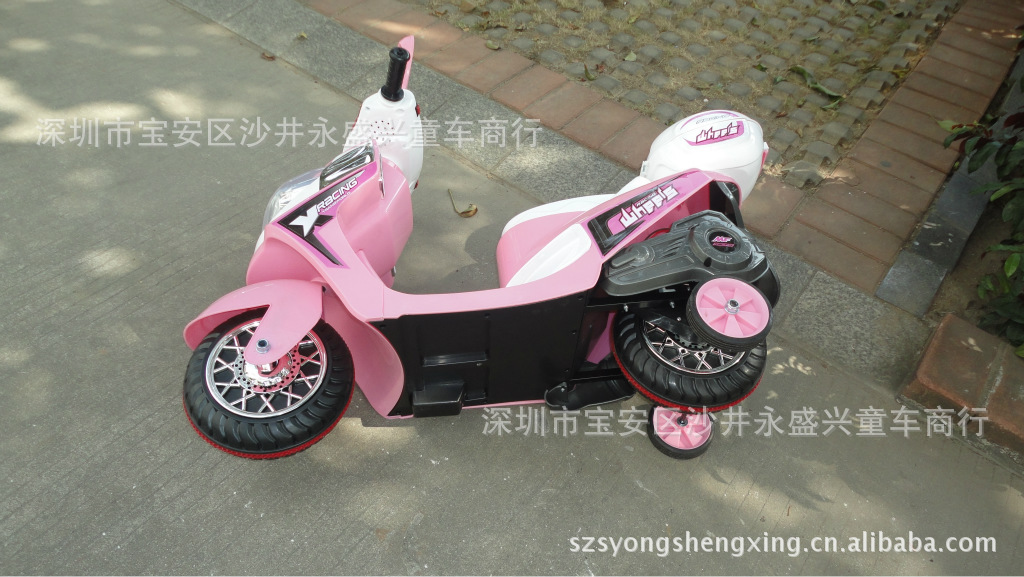电动车: (166, 13, 841, 462)
